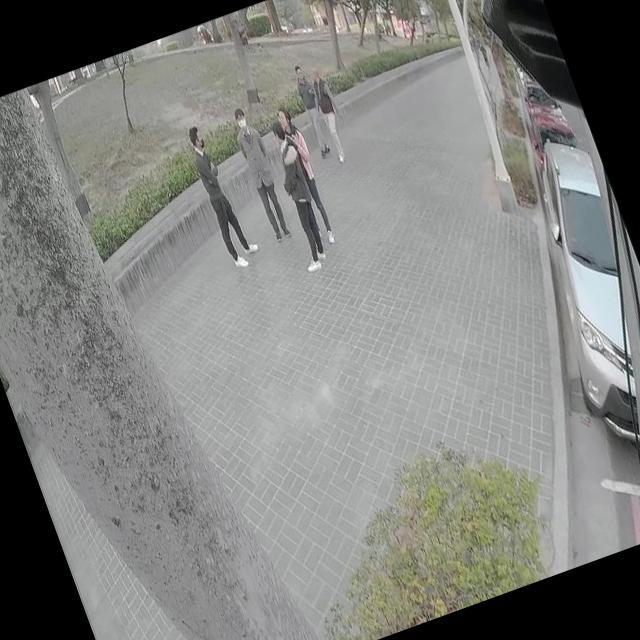person: (249, 112, 341, 282), (262, 107, 338, 260), (182, 120, 254, 270), (227, 106, 296, 246), (302, 64, 357, 167), (288, 60, 338, 158)
